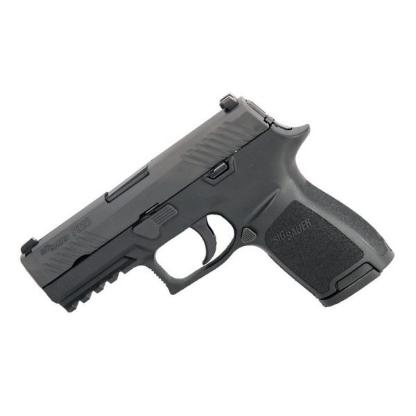gun: (18, 92, 394, 324)
